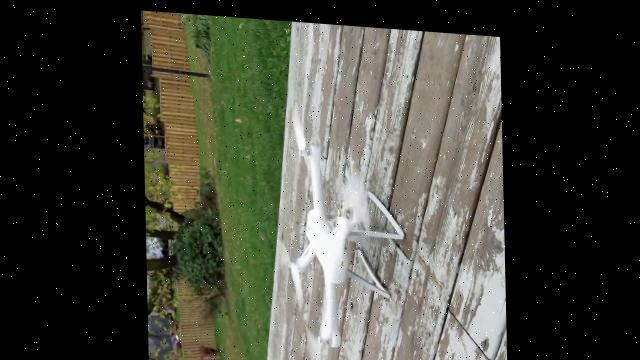drone: (269, 100, 374, 360)
